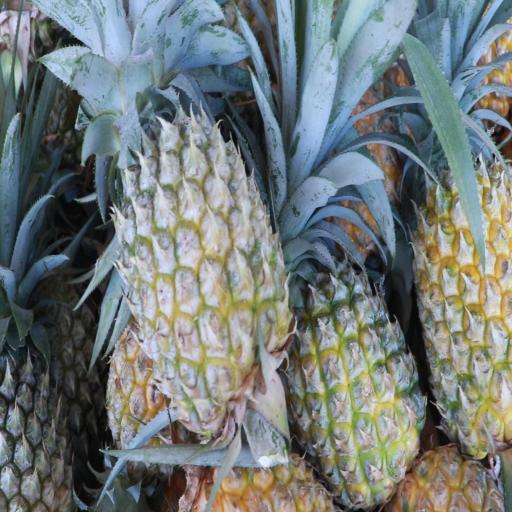------------------------------: (125, 106, 284, 410)
Pineapple - v8 v1: (284, 266, 420, 493), (414, 169, 512, 453)
